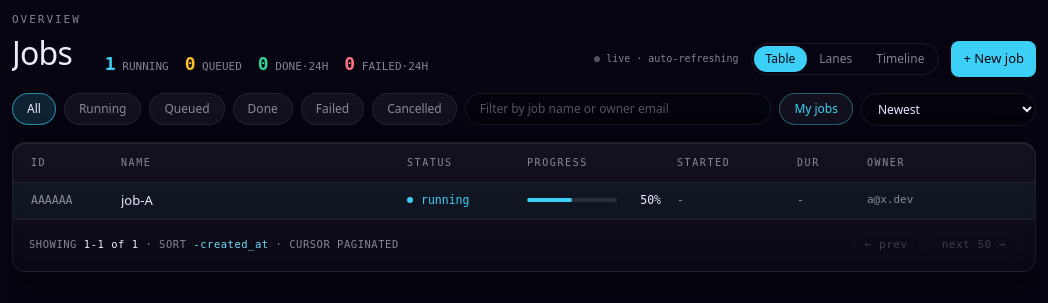
an empty filtered table says no jobs match
Check: the link "job-A" is shown, box [121, 190, 153, 210]
Type "zzz" into the search field at (618, 109), box [465, 93, 771, 125]
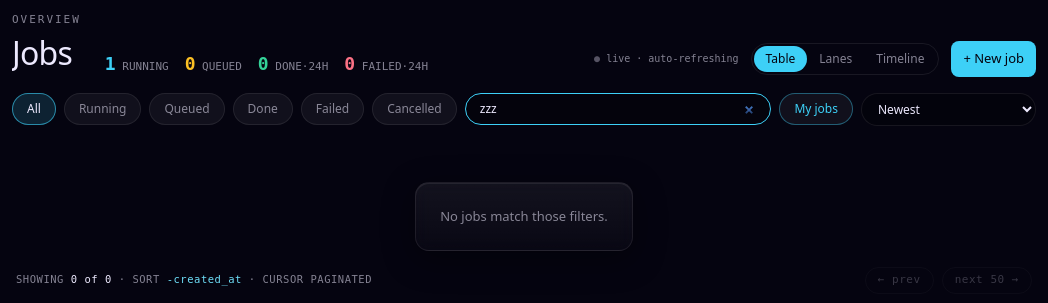
Check: the text "No jobs match those filters." is shown, box [415, 182, 633, 251]
